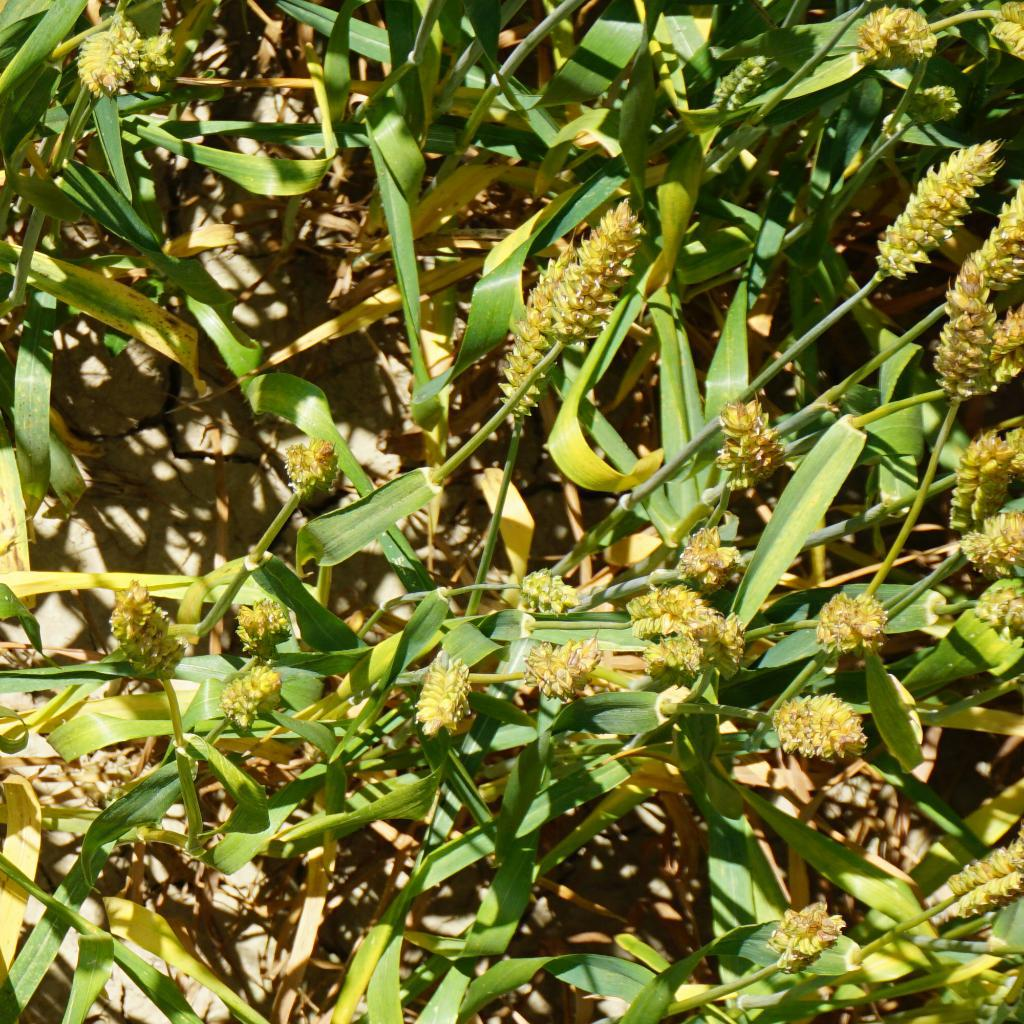0-0: (868, 153, 981, 268), (559, 204, 649, 341), (103, 577, 196, 694), (914, 837, 1024, 929), (497, 259, 563, 408), (763, 688, 868, 773), (932, 277, 994, 396), (944, 193, 1024, 282), (955, 431, 1014, 531), (711, 395, 777, 482), (846, 4, 935, 65), (812, 581, 881, 651), (278, 435, 344, 506), (527, 634, 600, 698), (676, 520, 742, 590), (773, 897, 841, 964), (233, 592, 303, 655), (224, 662, 288, 728), (415, 652, 466, 729), (698, 615, 758, 678), (67, 27, 126, 89), (960, 508, 1024, 565), (978, 307, 1024, 385), (634, 585, 707, 632), (635, 631, 708, 678), (135, 19, 179, 88), (707, 56, 764, 108), (519, 568, 580, 614), (975, 4, 1024, 53), (904, 78, 960, 116), (978, 587, 1024, 631), (0, 51, 15, 109)
